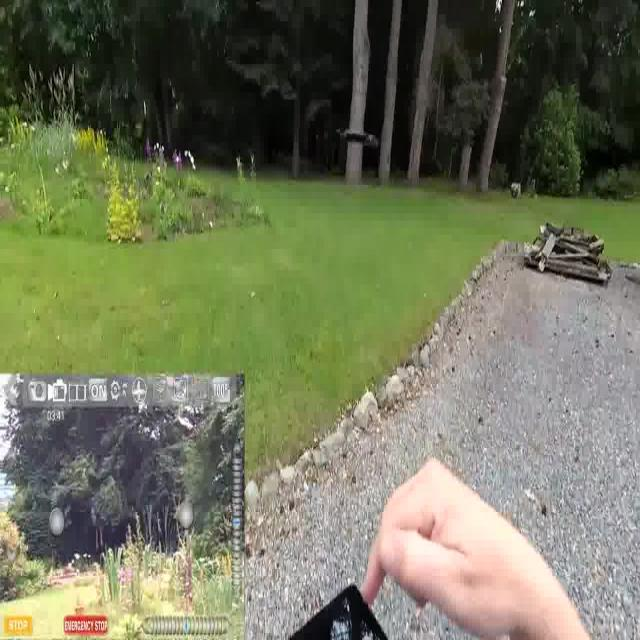drones: (324, 107, 388, 166)
